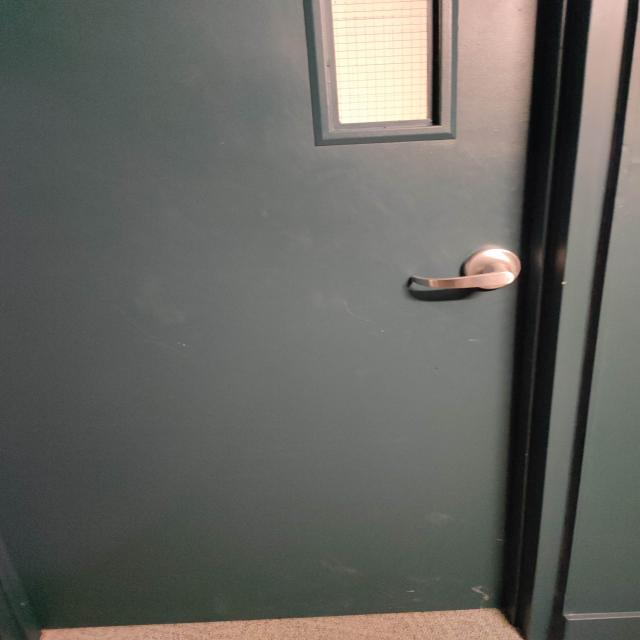door-handle: (408, 248, 520, 290)
